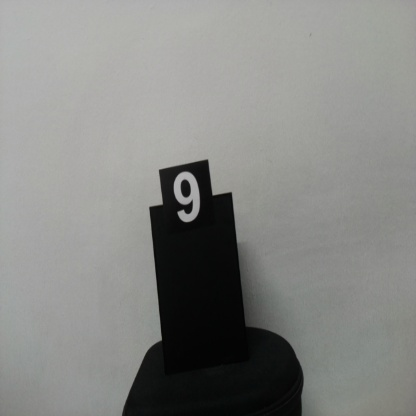id_9: (159, 169, 215, 244)
